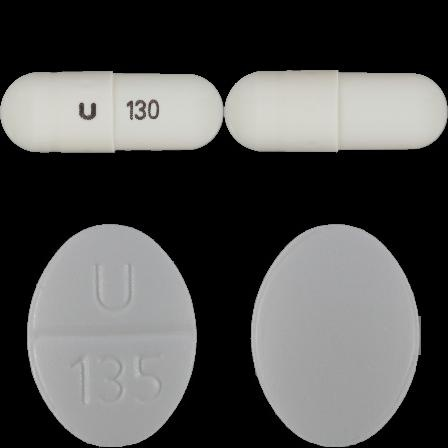29300-130: (0, 0, 224, 224)
